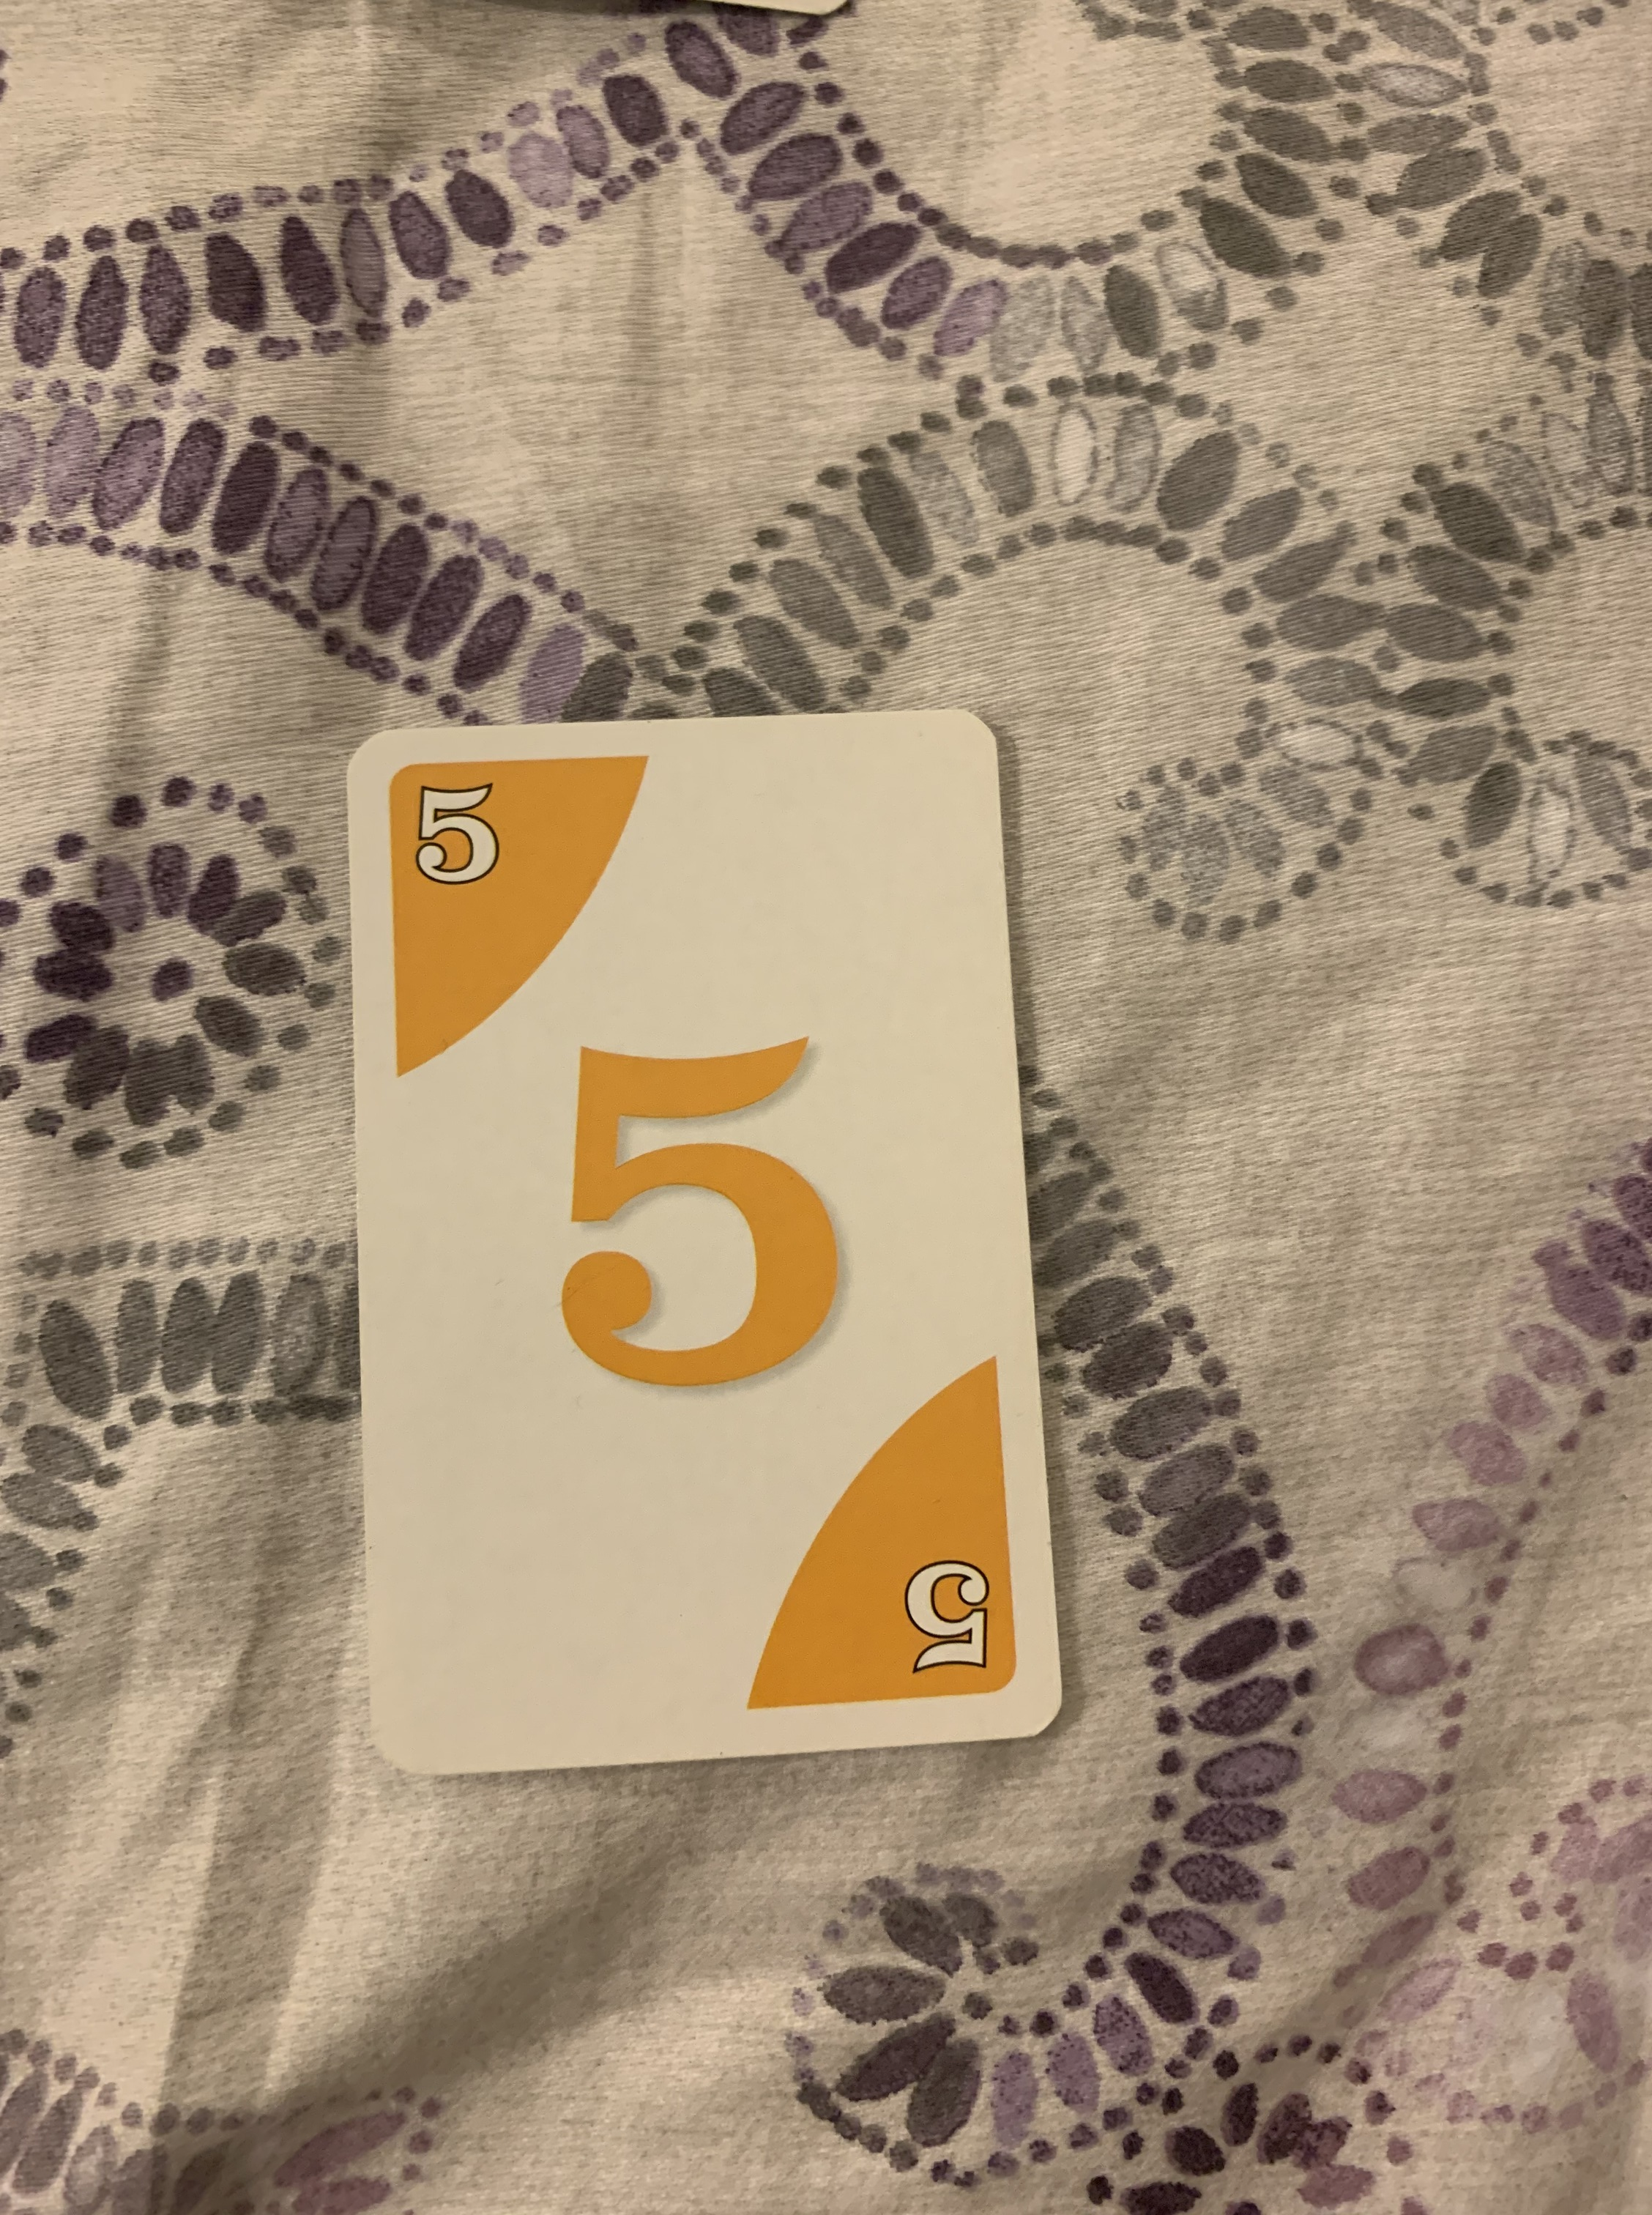five: (338, 703, 1071, 1784)
